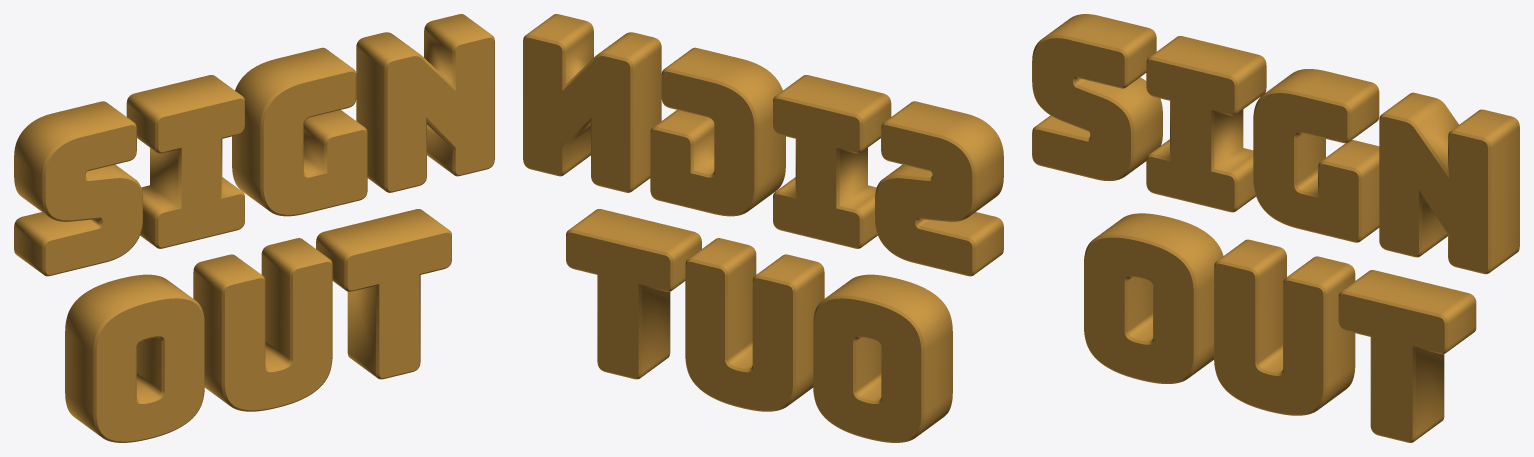
Rendered from sign-out-bungee.glb.
The picture shows the model from 3 angles, left to right: view 1: azimuth 30°, elevation 25°; view 2: azimuth 150°, elevation 25°; view 3: azimuth 330°, elevation 25°; orthographic projection.
Parts seen in each view (by area): view 1: Text; view 2: Text; view 3: Text.
Boxes of the visible parts, x1,y1,x2,y2 form: Text: (14,14,494,442); Text: (523,14,1003,442); Text: (1032,14,1519,442).
Bounding box in the file's own units: 2.05 × 1.4 × 0.24.
